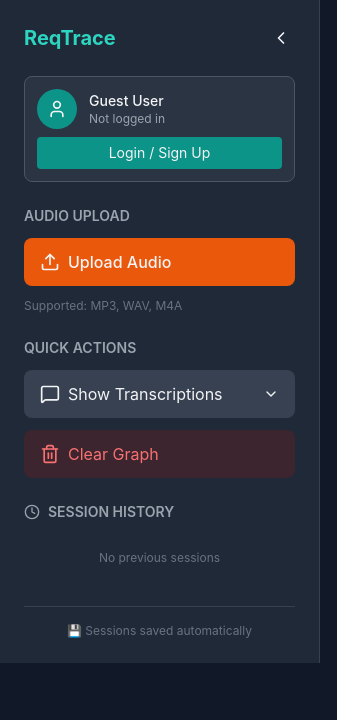
Test: Sidebar Component › transcriptions dropdown toggles
Should show "No transcriptions yet" when opened
Step 1. Click the button "Show Transcriptions" → [160, 394], box [24,370,295,418]
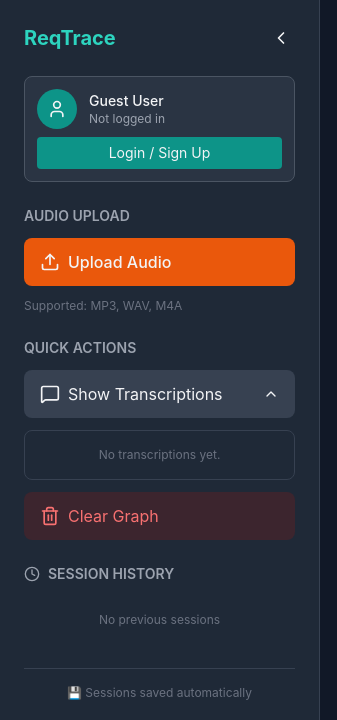
Check: the text "No transcriptions yet." is shown, box [99,447,220,462]
Click again to close
Step 2. Click the button "Show Transcriptions" → [160, 394], box [24,370,295,418]
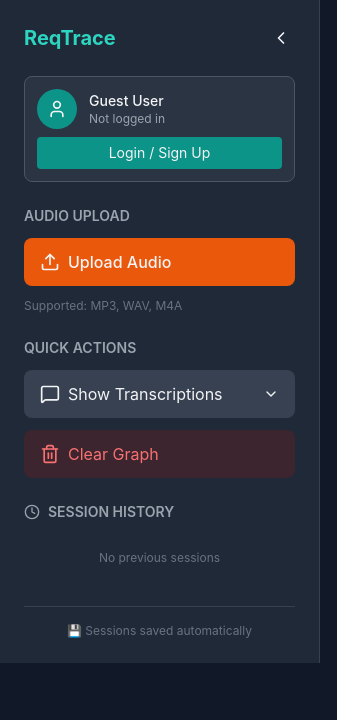
Check: the text "No transcriptions yet" is gone
